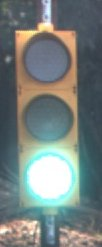Green: (11, 12, 80, 222)
